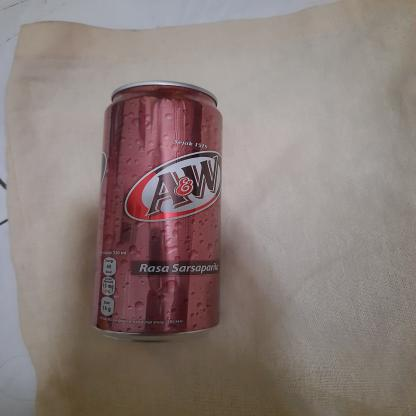can: (96, 76, 227, 347)
